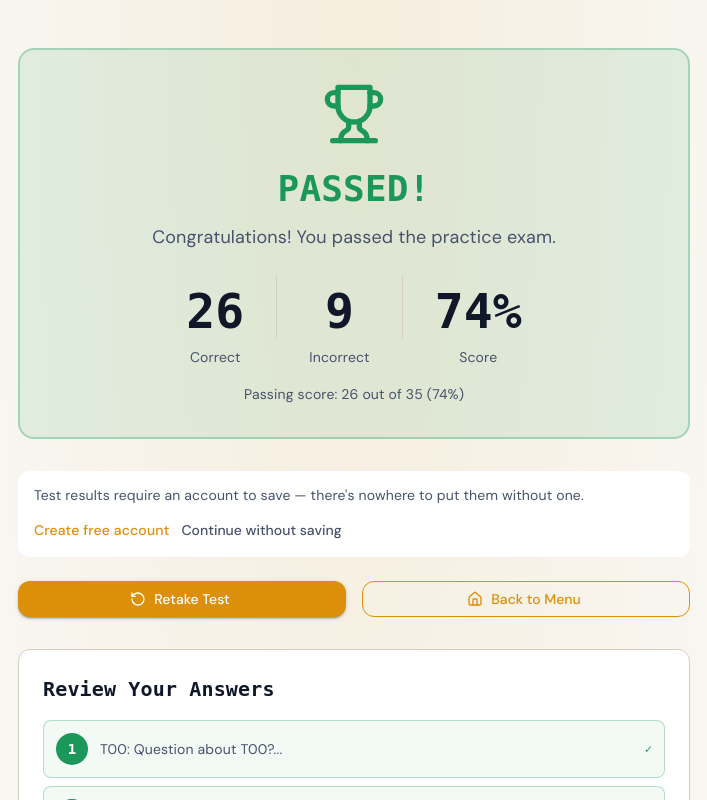
Scenario: TestResults › Guest save card › dismisses save card when "Continue without saving" is clicked
Click the button "Continue without saving": x=262, y=530 [182, 518, 342, 542]
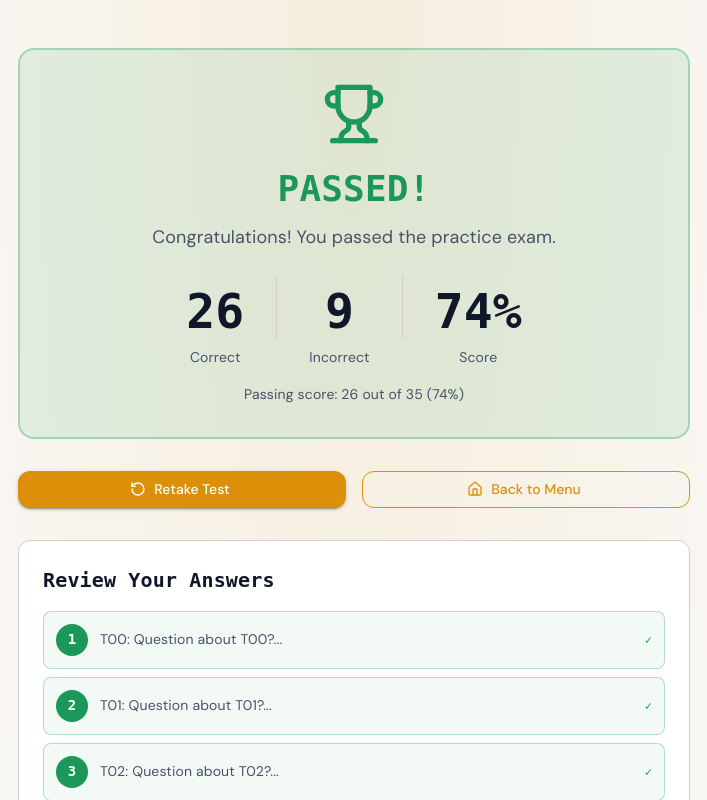
Expected: the text "Test results require an account to save" is gone
